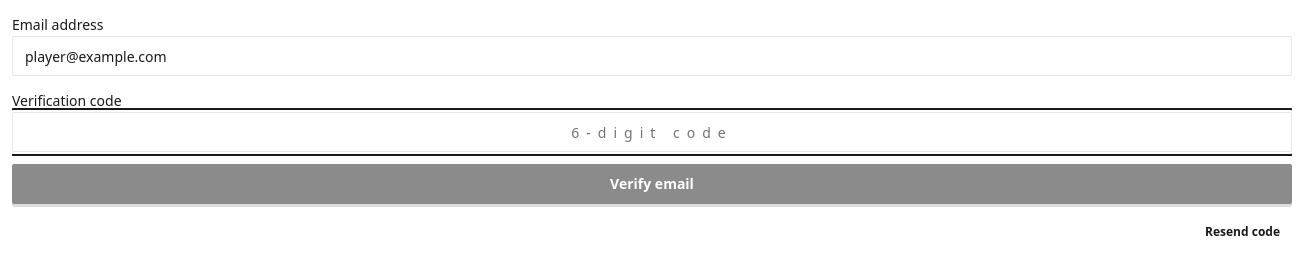
Test: VerificationEmailForm › shows the server error for a rejected code
Type "111111" into the field labelled "Verification code" at (652, 132), box [12,112,1292,152]
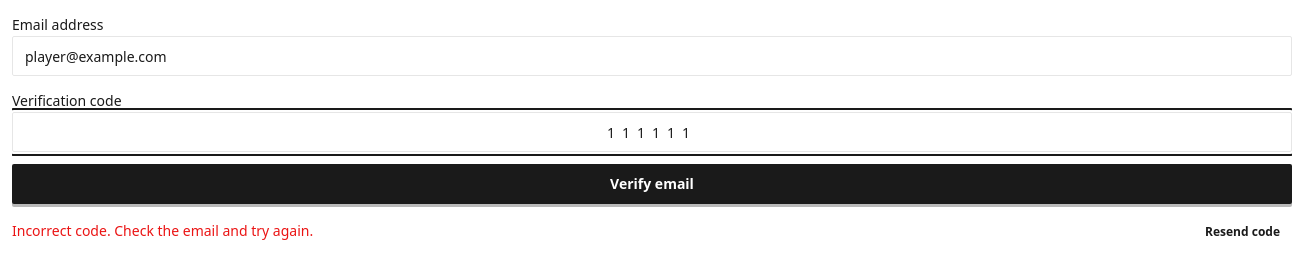
Expected: the text "Incorrect code. Check the email and try again." is shown, [12,221,313,241]
